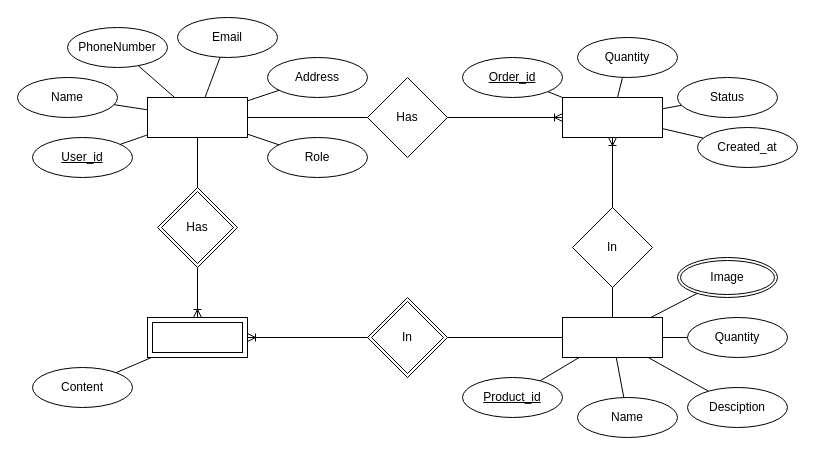
This 815x455 diagram has some shape labels left out. The box of each missing label's shape, as (x1, y1, x2, y2) in pixels:
Comments: (146, 316, 248, 358)
Orders: (562, 96, 662, 138)
Products: (562, 316, 662, 358)
Users: (146, 96, 248, 138)
